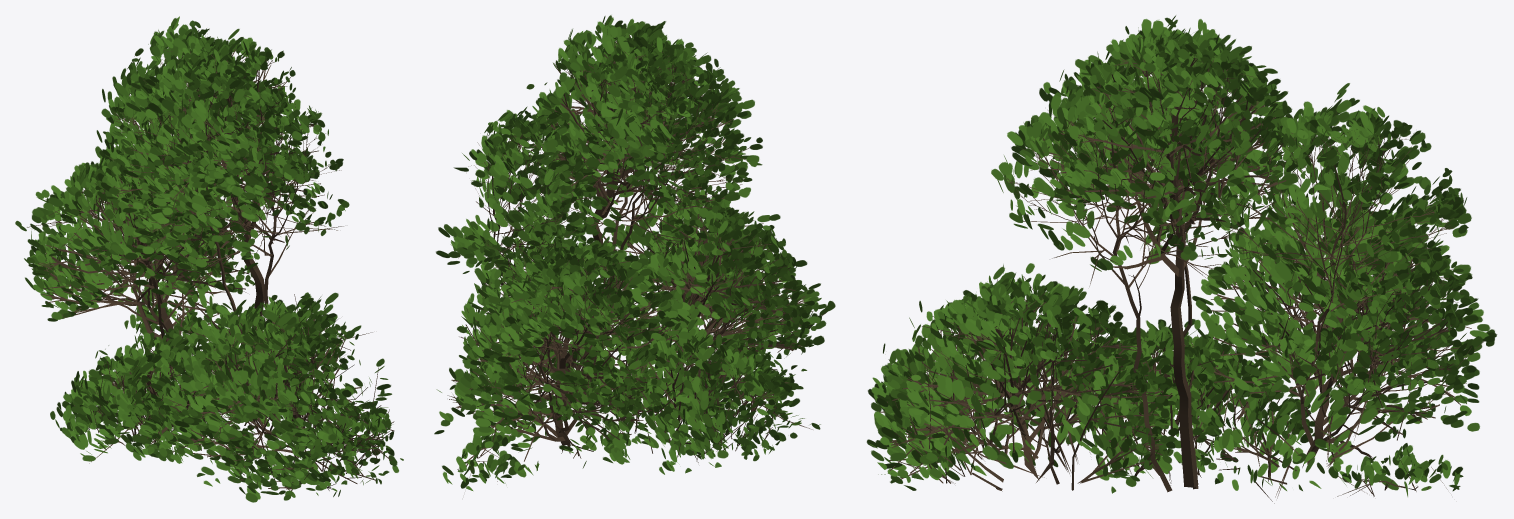
The picture shows the model from 3 angles, left to right: view 1: azimuth 30°, elevation 25°; view 2: azimuth 150°, elevation 25°; view 3: azimuth 270°, elevation 25°; orthographic projection. The views are drawn at different scales.
Parts seen in each view (by area): view 1: oak 01.001_trunk_Mat.001_0.343; view 2: oak 01.001_trunk_Mat.001_0.343; view 3: oak 01.001_trunk_Mat.001_0.343.
Part boxes in pixels (x1=…): oak 01.001_trunk_Mat.001_0.343: x1=15, y1=16, x2=403, y2=502; oak 01.001_trunk_Mat.001_0.343: x1=434, y1=15, x2=835, y2=491; oak 01.001_trunk_Mat.001_0.343: x1=866, y1=15, x2=1497, y2=503.
Size of the model in its own units: 3.27 by 4.77 by 6.02.
2 materials, 1 textured.
